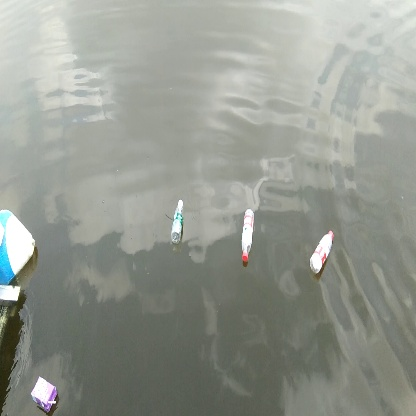bottle: (308, 228, 334, 276), (237, 207, 256, 264), (170, 198, 187, 245)
